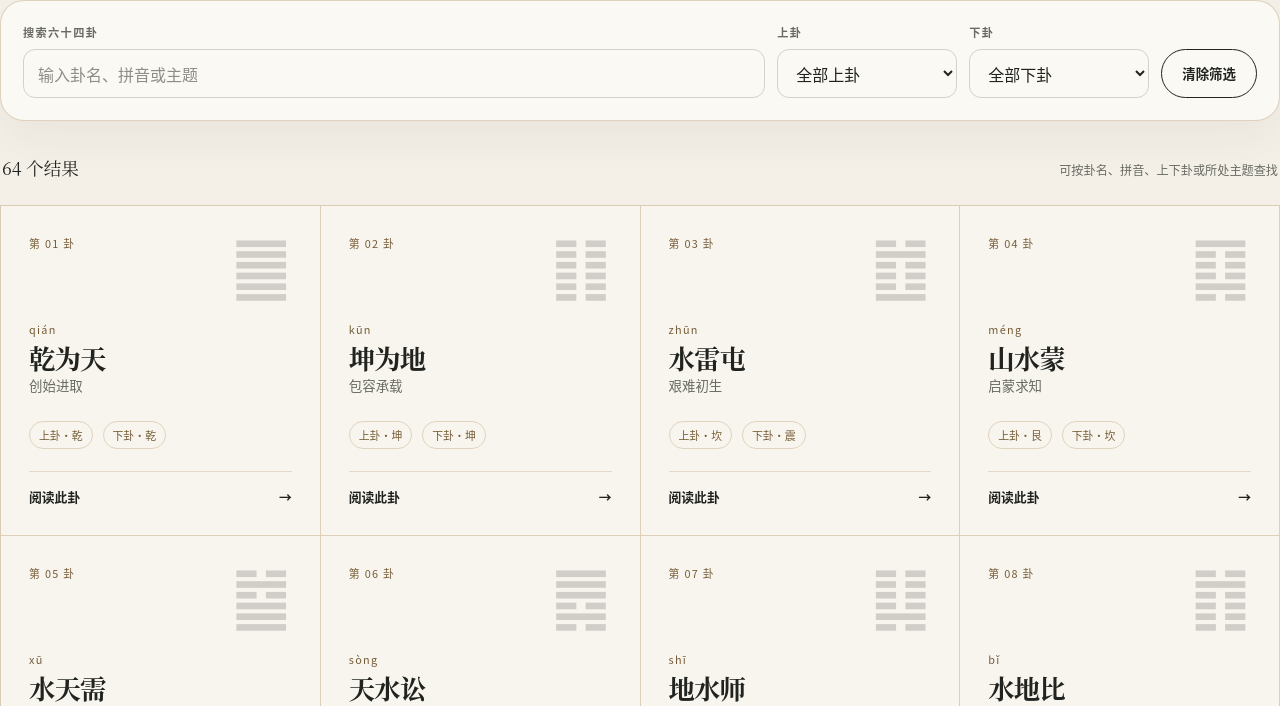
Test: HexagramBrowser › searches by hexagram identity and restores all 64 results when cleared
The image size is (1280, 706).
Expected: the text "64 个结果" is shown, top-left (2, 153), bottom-right (79, 183)
Step 1. Type "乾" into the search field labelled "搜索六十四卦" → (394, 74), box top-left (23, 49), bottom-right (765, 98)
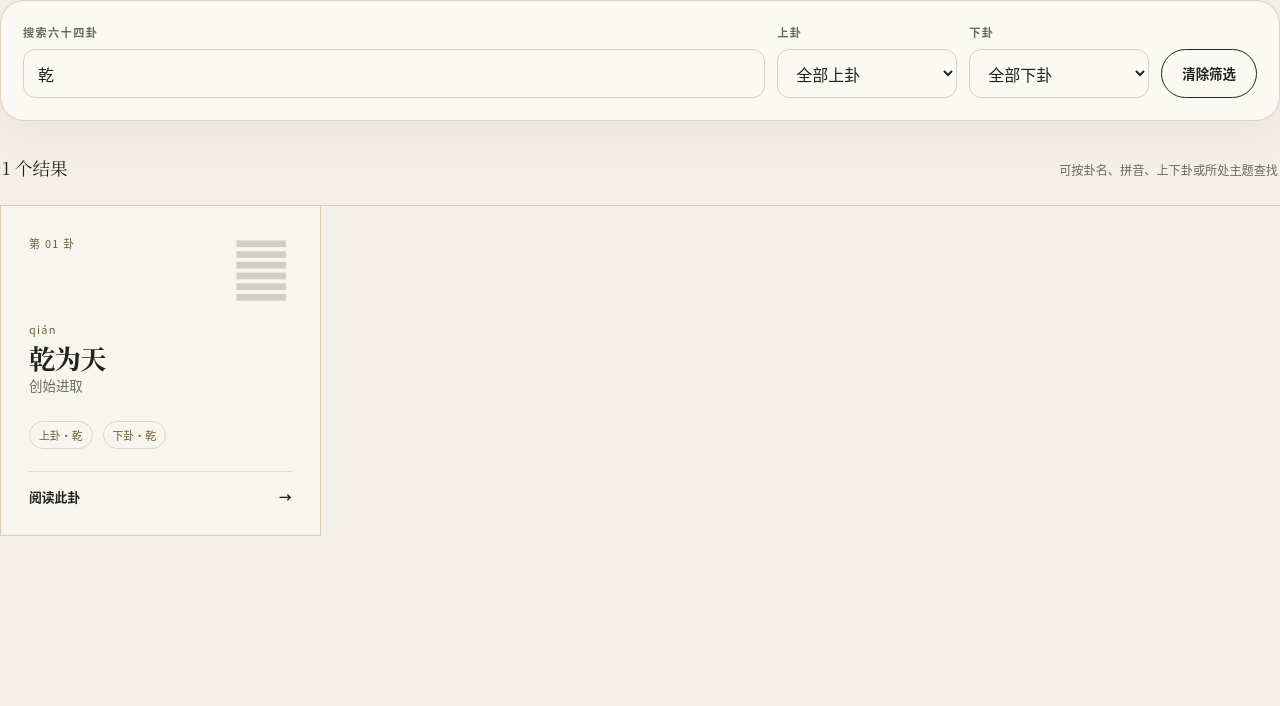
Expected: the heading "乾为天" is shown, top-left (29, 339), bottom-right (105, 377)
Now the number of elements with test id "hexagram-card" is 1, box top-left (1, 206), bottom-right (321, 536)
Step 2. Click the button "清除筛选" → (1209, 74), box top-left (1161, 49), bottom-right (1257, 98)
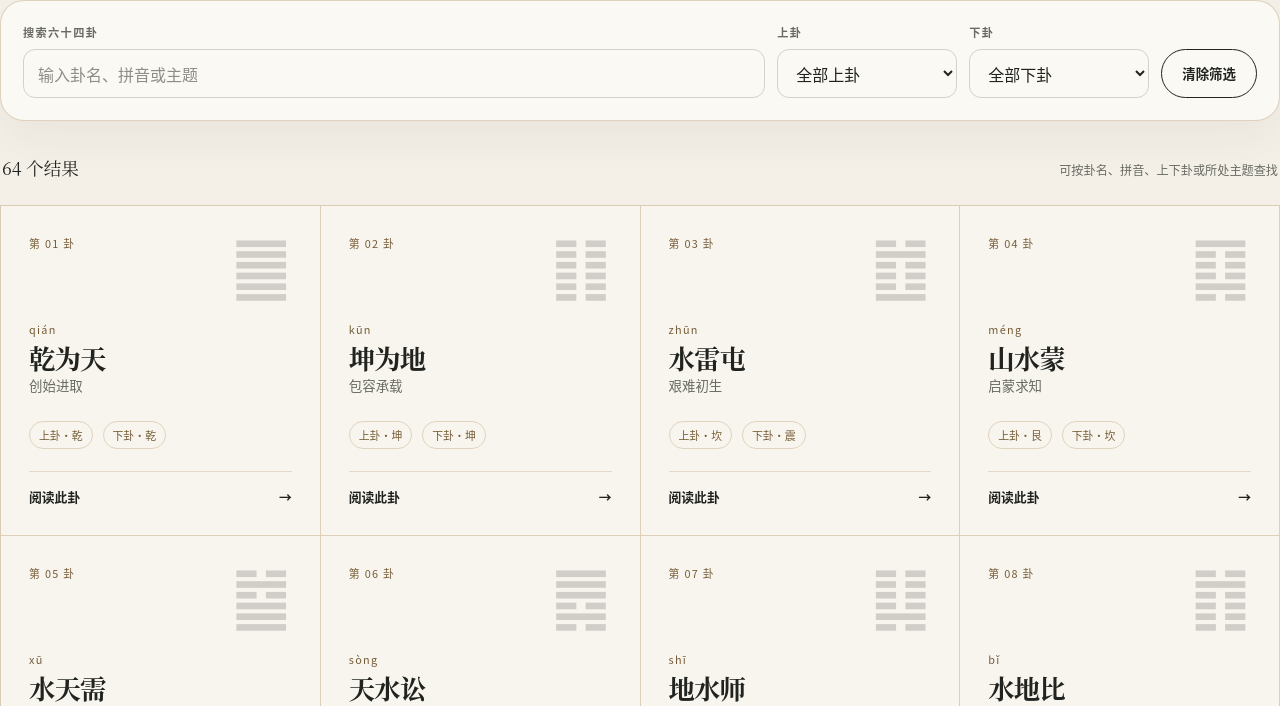
Now the text "64 个结果" is shown, box top-left (2, 153), bottom-right (79, 183)
Now the number of elements with test id "hexagram-card" is 64
